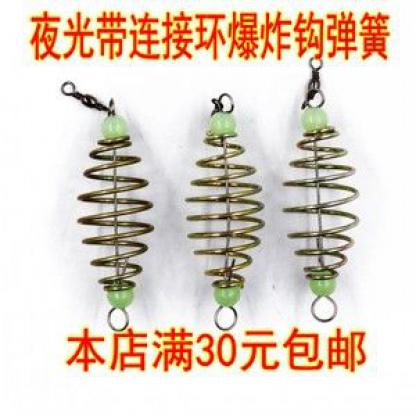FOD: (60, 80, 160, 337), (279, 55, 362, 328), (180, 90, 269, 333)
